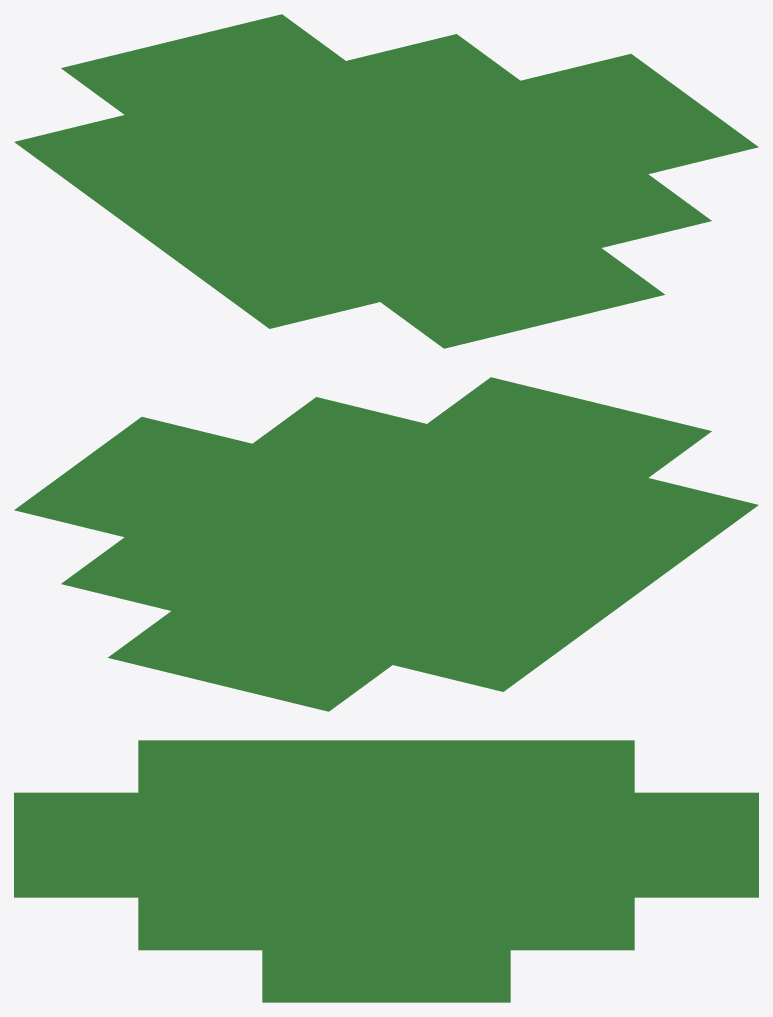
File: Isl-islet4-TreesArea.fbx
The picture shows the model from 3 angles, top to bottom: view 1: azimuth 30°, elevation 25°; view 2: azimuth 150°, elevation 25°; view 3: azimuth 270°, elevation 25°; orthographic projection. The views are drawn at different scales.
Visible parts, largest first — view 1: Isl-islet4-TreesArea; view 2: Isl-islet4-TreesArea; view 3: Isl-islet4-TreesArea.
Boxes of the visible parts, left/top/right/bottom form: Isl-islet4-TreesArea: left=14, top=14, right=758, bottom=348; Isl-islet4-TreesArea: left=14, top=377, right=758, bottom=711; Isl-islet4-TreesArea: left=14, top=740, right=758, bottom=1002.
Bounding box in the file's own units: 5 × 0 × 6.
